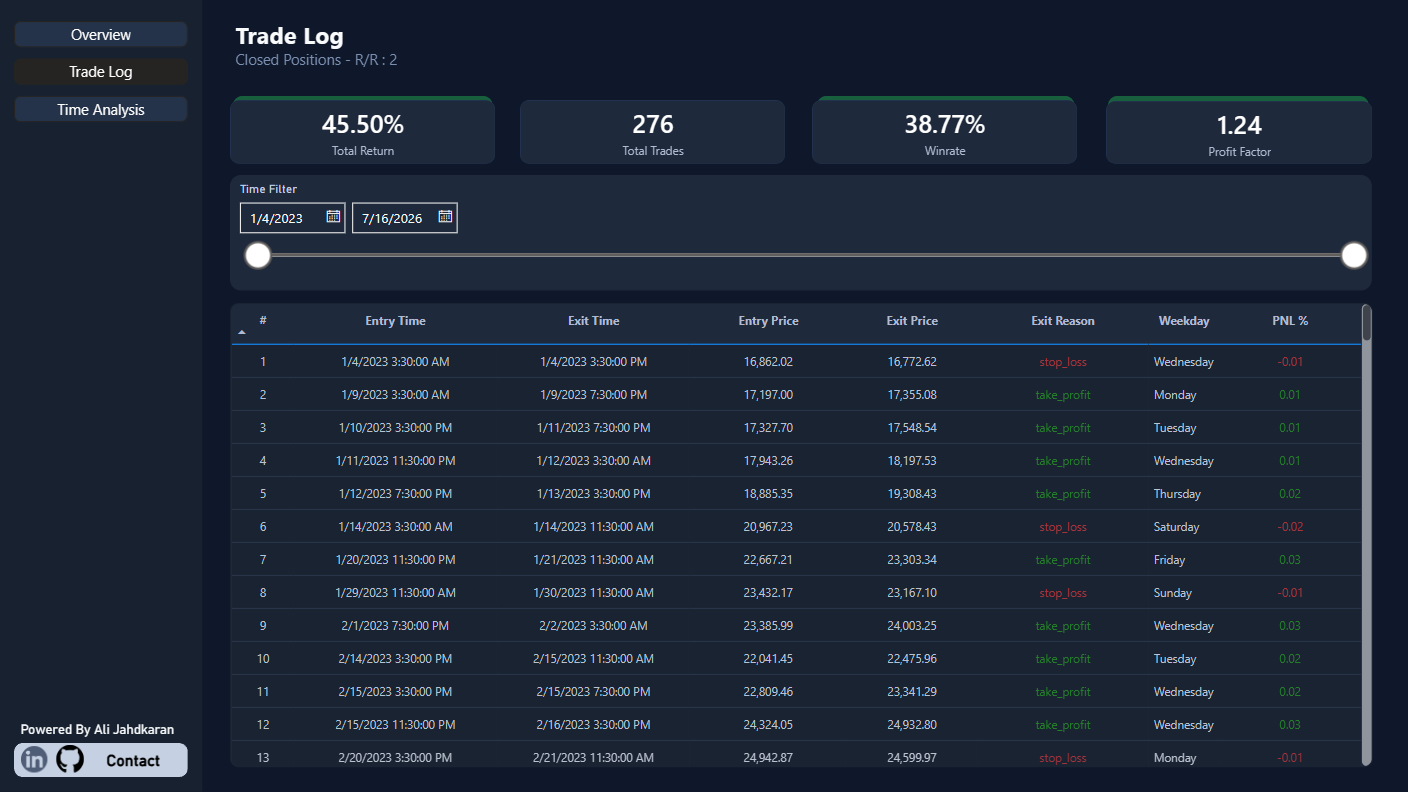

Layout of this report page (visuals, bound fields, positions):
{"tool":"powerbi","page":{"name":"Trade Log","canvas":[1280,720],"ordinal":1},"visuals":[{"type":"shape","box":[0,0,183.8,719.8],"z":0},{"type":"textbox","box":[209,12,365,63],"z":1000},{"type":"cardVisual","title":"Total Profit","fields":{"Data":["summary-kpis.NewPercent"]},"box":[211.6,87.4,239.5,48.9],"z":2000},{"type":"cardVisual","title":"Total Profit","fields":{"Data":["summary-kpis.WinratePercent"]},"box":[742.5,87.5,237.5,49.6],"z":3000},{"type":"cardVisual","title":"Total Profit","fields":{"Data":["summary-kpis.NewPercent"]},"box":[209.2,90.8,241.7,58.3],"z":4000},{"type":"cardVisual","title":"Total Profit","fields":{"Data":["summary-kpis.WinratePercent"]},"box":[738.4,90.5,241.6,58.9],"z":5000},{"type":"cardVisual","title":"Total Profit","fields":{"Data":["Sum(summary-kpis.total_trades)"]},"box":[473.1,90.8,241.5,58.5],"z":6000},{"type":"cardVisual","title":"Total Profit","fields":{"Data":["Sum(summary-kpis.profit_factor)"]},"box":[1007.1,87.1,240,47.9],"z":7000},{"type":"cardVisual","title":"Total Profit","fields":{"Data":["Sum(summary-kpis.profit_factor)"]},"box":[1005,91.4,242.1,57.9],"z":8000},{"type":"tableEx","fields":{"Values":["Sum(backtested.#)","backtested.entry_time","backtested.exit_time","backtested.entry_price","backtested.exit_price","backtested.exit_reason","backtested.weekday","backtested.pnl_pct"]},"box":[209.1,275.5,1039.1,421.8],"z":9000},{"type":"shape","box":[12.9,675.2,158.1,31],"z":10000},{"type":"image","box":[19.5,677.6,23.8,26.2],"z":11000},{"type":"image","box":[48.6,677.6,30.5,24.8],"z":12000},{"type":"textbox","box":[91.9,676.9,65.6,30.6],"z":13000},{"type":"textbox","box":[13.3,648.3,163.3,26.7],"z":14000},{"type":"pageNavigator","box":[12.7,19.1,158.2,92.7],"z":15000},{"type":"slicer","title":"Year Equity","fields":{"Values":["backtested.exit_time"]},"box":[209.1,159.1,1038.2,105.5],"z":15001}]}

Visuals, with their boxes on the page's 1280x720 design canvas (x1, y1, x2, y2). These are canvas units, not pixel positions in the 1408x792 screenshot, which may show the page scaled, cropped or inside an application window:
shape: region(0, 0, 184, 720)
textbox: region(209, 12, 574, 75)
"Total Profit" cardVisual: region(212, 87, 451, 136)
"Total Profit" cardVisual: region(742, 88, 980, 137)
"Total Profit" cardVisual: region(209, 91, 451, 149)
"Total Profit" cardVisual: region(738, 90, 980, 149)
"Total Profit" cardVisual: region(473, 91, 715, 149)
"Total Profit" cardVisual: region(1007, 87, 1247, 135)
"Total Profit" cardVisual: region(1005, 91, 1247, 149)
tableEx - Sum(backtested.#) x backtested.entry_time: region(209, 276, 1248, 697)
shape: region(13, 675, 171, 706)
image: region(20, 678, 43, 704)
image: region(49, 678, 79, 702)
textbox: region(92, 677, 158, 708)
textbox: region(13, 648, 177, 675)
pageNavigator: region(13, 19, 171, 112)
"Year Equity" slicer: region(209, 159, 1247, 265)
